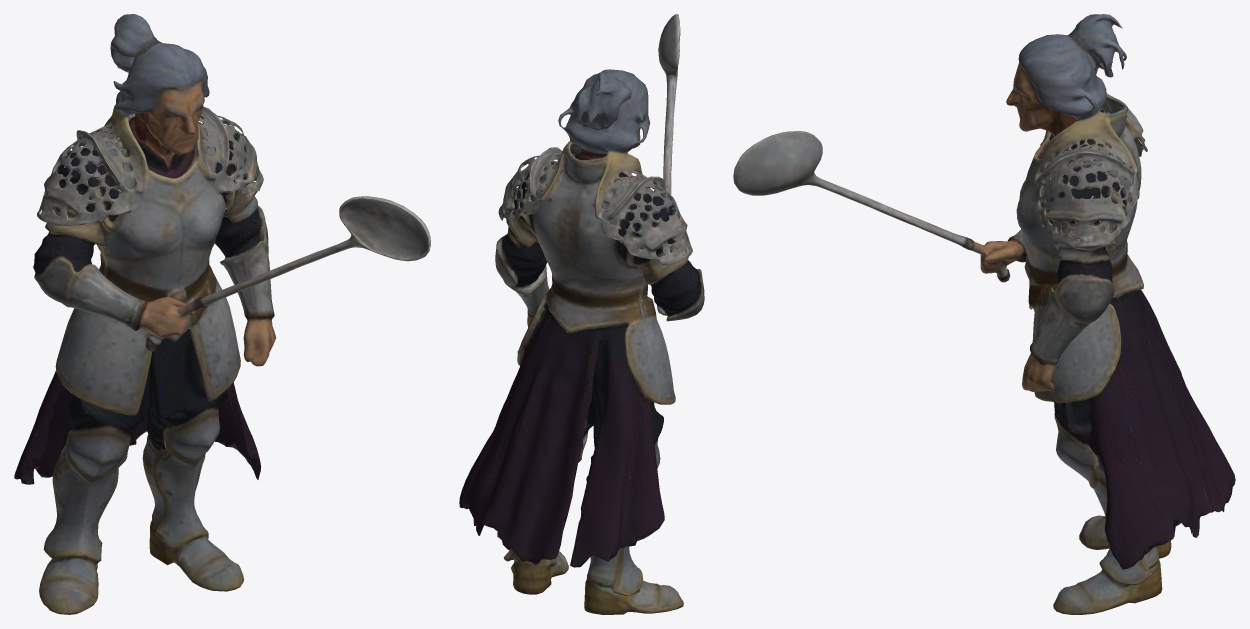
The model's file is agatha_ironclad.glb.
3 views of the same model, side by side, from view 1: azimuth 30°, elevation 25°; view 2: azimuth 150°, elevation 25°; view 3: azimuth 270°, elevation 25° (orthographic). The views are drawn at different scales.
Size of the model in its own units: 0.3979 by 0.9119 by 0.7442.
1 material, 1 textured.
